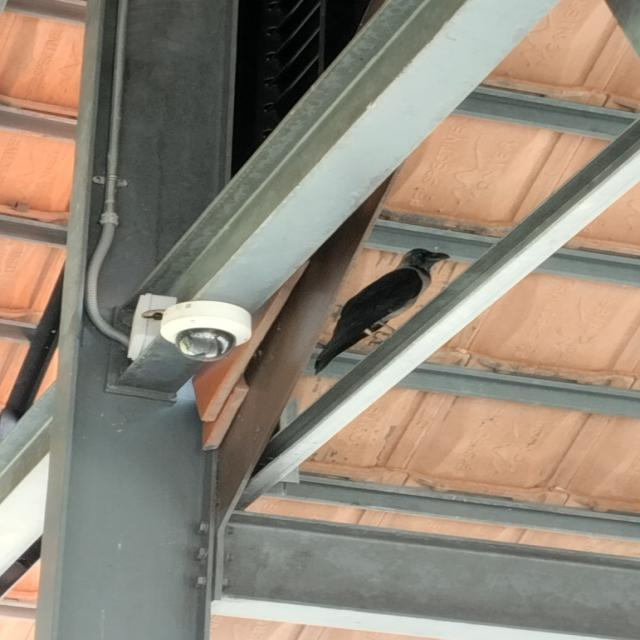bird: (310, 246, 453, 380)
